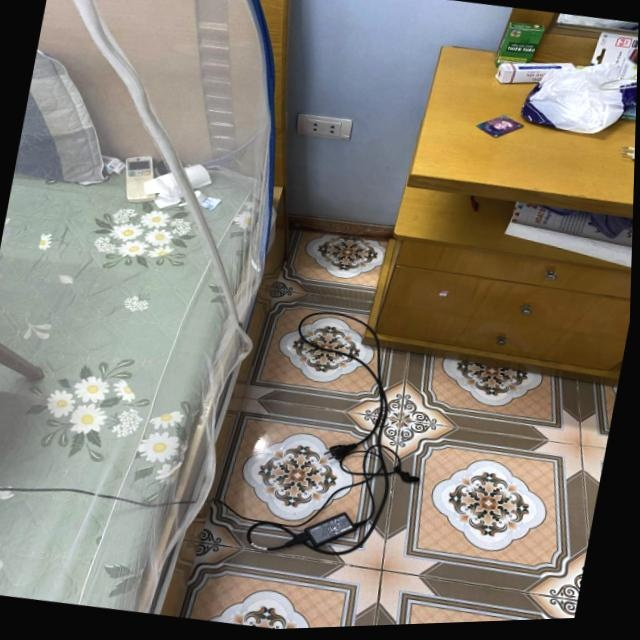outlet: (292, 110, 354, 144)
